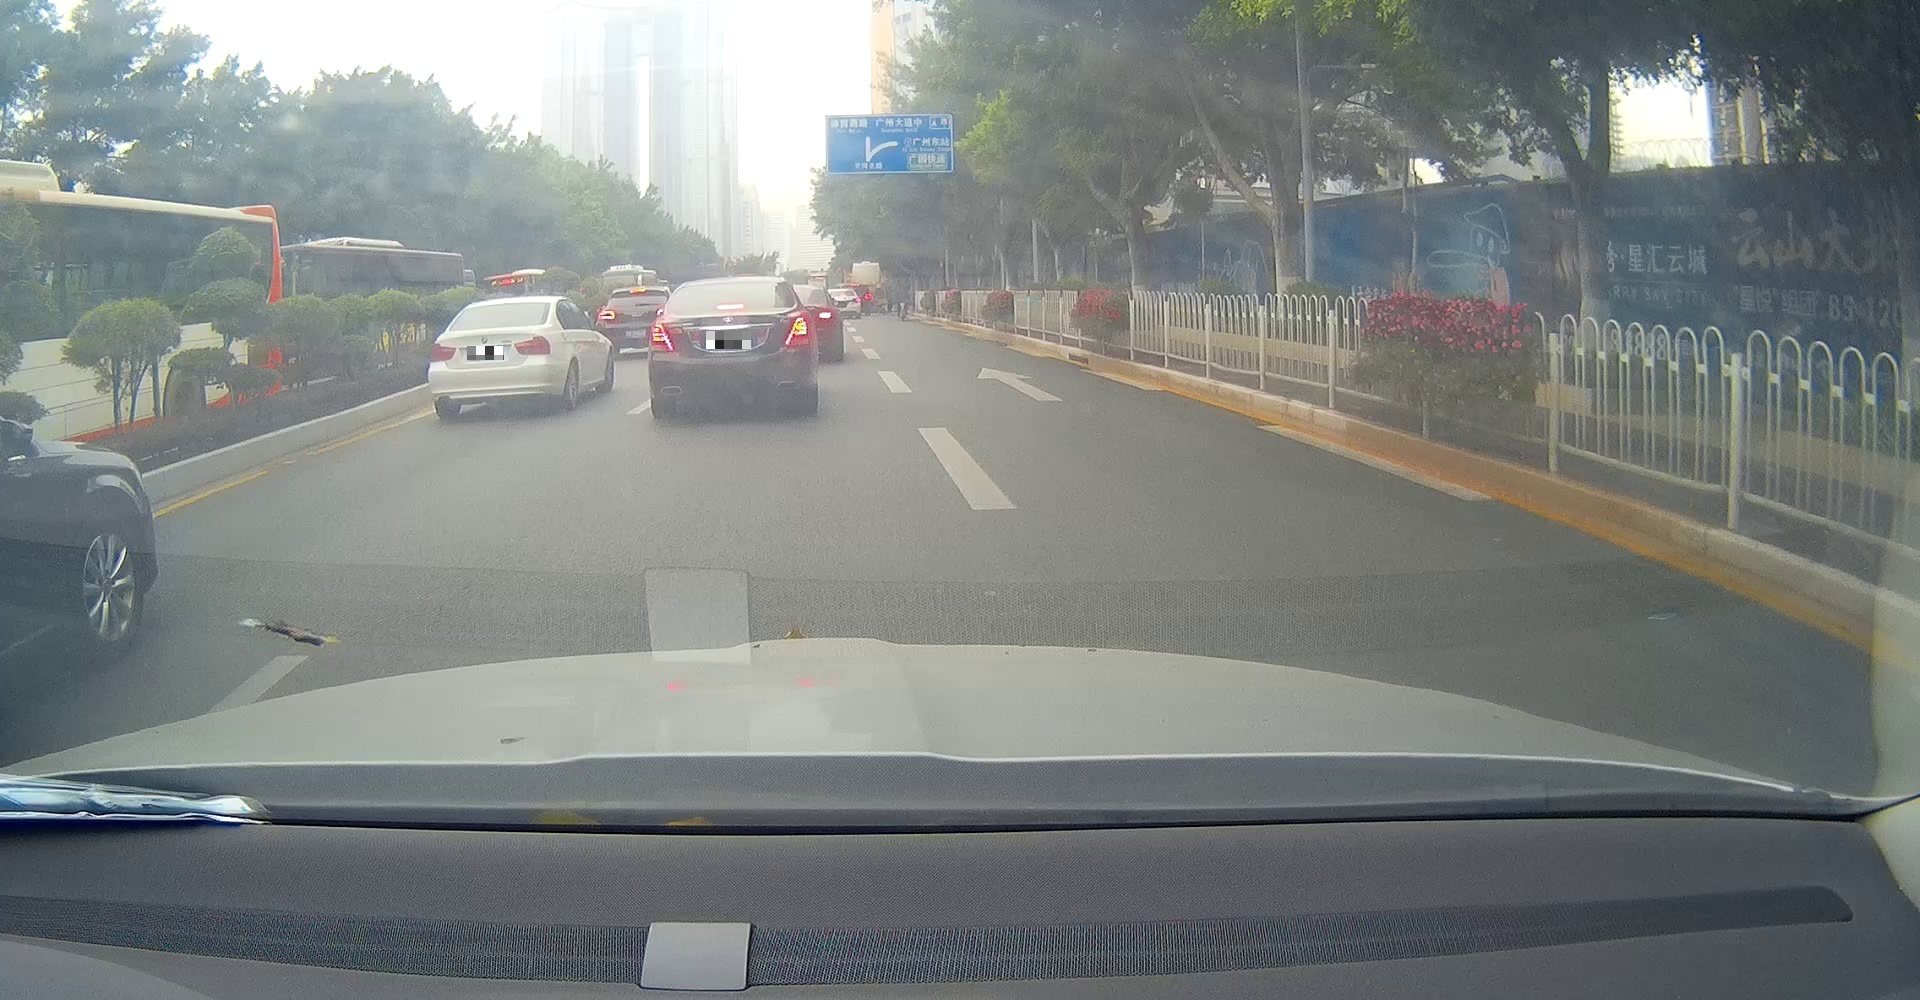L_light: (650, 322, 674, 352), (429, 341, 456, 362)
R_light: (785, 315, 809, 346), (514, 335, 551, 355)
T_light: (717, 305, 743, 310), (495, 303, 510, 307)
day-brake: (649, 275, 817, 418)
day-no: (428, 296, 555, 420)
plate_1: (467, 346, 504, 360)
plate_2: (706, 331, 750, 349)
